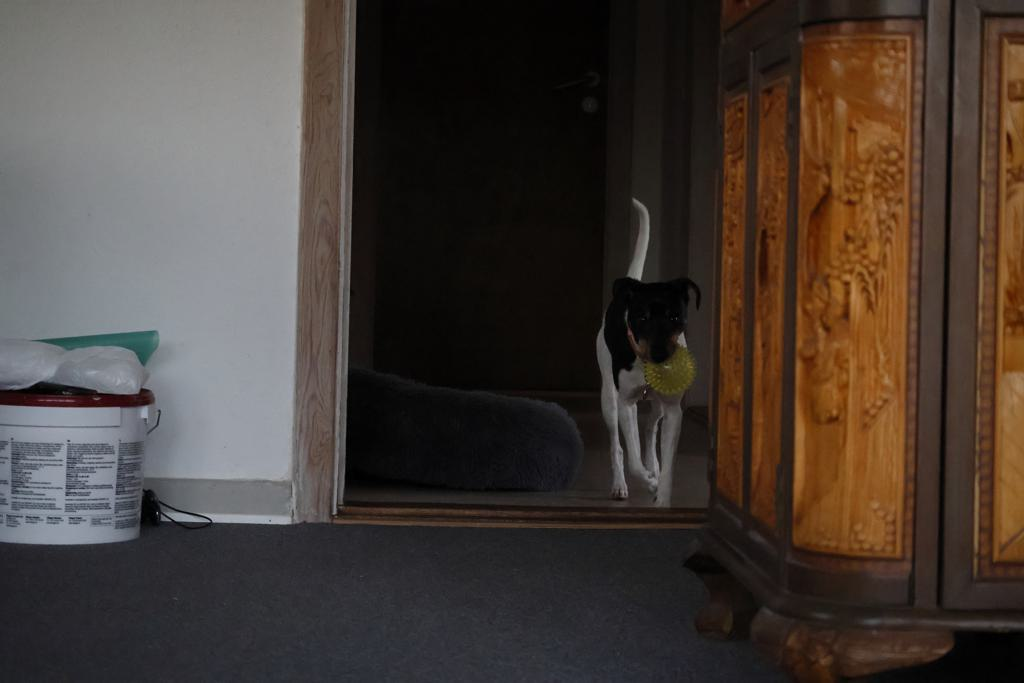Dog: (589, 191, 710, 511)
